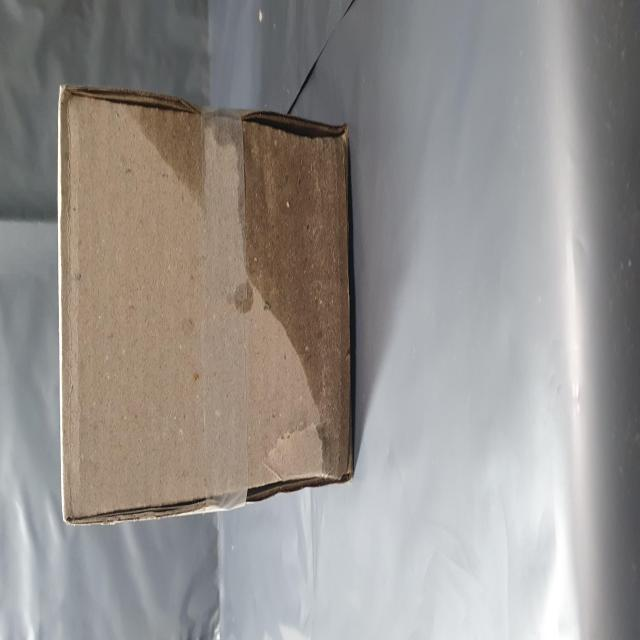wet: (99, 199, 300, 614)
